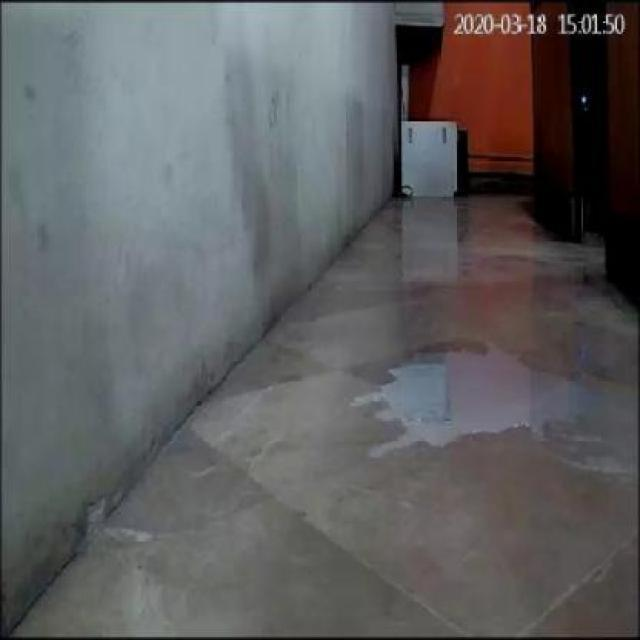spillage: (375, 351, 601, 448)
